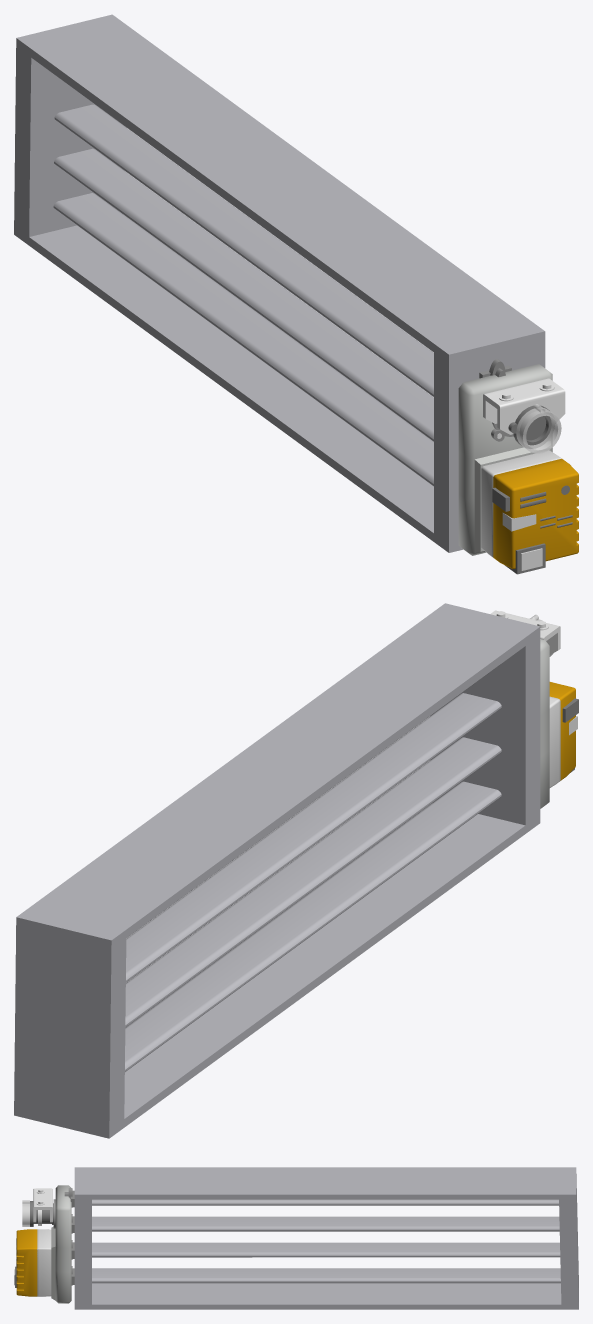
Rendered from DAMPER3.glb.
3 views of the same model, one above another, from view 1: azimuth 30°, elevation 25°; view 2: azimuth 150°, elevation 25°; view 3: azimuth 270°, elevation 25° (orthographic). The views are drawn at different scales.
Visible parts, largest first — view 1: DAMPER BODY3, ACTUATOR2.001, DAMPER LEAF-012, DAMPER LEAF-011, DAMPER LEAF-009; view 2: DAMPER BODY3, DAMPER LEAF-012, DAMPER LEAF-011, DAMPER LEAF-009, ACTUATOR2.001; view 3: DAMPER BODY3, DAMPER LEAF-012, DAMPER LEAF-011, DAMPER LEAF-009, ACTUATOR2.001, DAMPER LEAF-010.
Part boxes in pixels (x1=…): DAMPER BODY3: x1=14, y1=14, x2=545, y2=552; ACTUATOR2.001: x1=458, y1=364, x2=578, y2=574; DAMPER LEAF-012: x1=53, y1=193, x2=433, y2=486; DAMPER LEAF-011: x1=54, y1=148, x2=433, y2=441; DAMPER LEAF-009: x1=54, y1=104, x2=433, y2=396; DAMPER BODY3: x1=14, y1=603, x2=540, y2=1138; DAMPER LEAF-012: x1=125, y1=781, x2=501, y2=1071; DAMPER LEAF-011: x1=125, y1=737, x2=501, y2=1027; DAMPER LEAF-009: x1=126, y1=693, x2=501, y2=982; ACTUATOR2.001: x1=490, y1=610, x2=578, y2=808; DAMPER BODY3: x1=74, y1=1167, x2=578, y2=1309; DAMPER LEAF-012: x1=71, y1=1266, x2=560, y2=1285; DAMPER LEAF-011: x1=71, y1=1240, x2=560, y2=1259; DAMPER LEAF-009: x1=71, y1=1214, x2=559, y2=1233; ACTUATOR2.001: x1=14, y1=1185, x2=71, y2=1303; DAMPER LEAF-010: x1=64, y1=1188, x2=558, y2=1207.
Bounding box in the file's own units: 0.1529 × 0.3014 × 1.34.
